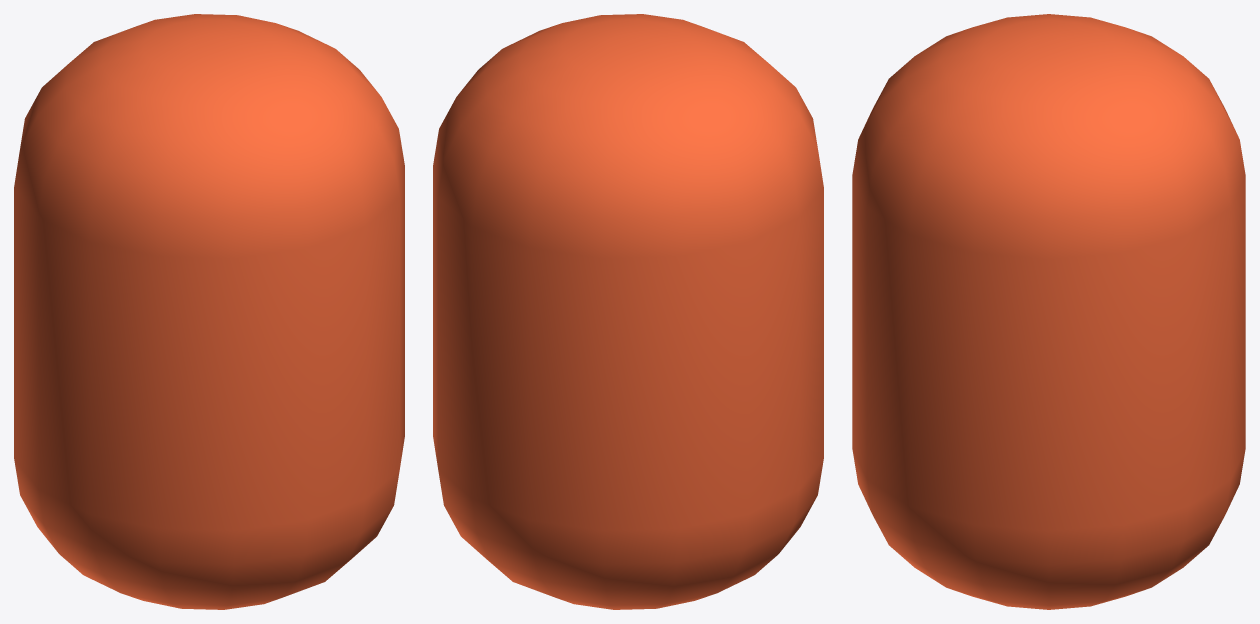
File: Fish-Food.fbx
The picture shows the model from 3 angles, left to right: view 1: azimuth 30°, elevation 25°; view 2: azimuth 150°, elevation 25°; view 3: azimuth 270°, elevation 25°; orthographic projection.
Visible parts, largest first — view 1: Cylinder; view 2: Cylinder; view 3: Cylinder.
Part boxes in pixels (left/top/right/bottom): Cylinder: left=14, top=14, right=404, bottom=609; Cylinder: left=433, top=14, right=823, bottom=609; Cylinder: left=852, top=14, right=1245, bottom=609.
Bounding box in the file's own units: 12 × 18 × 12.
